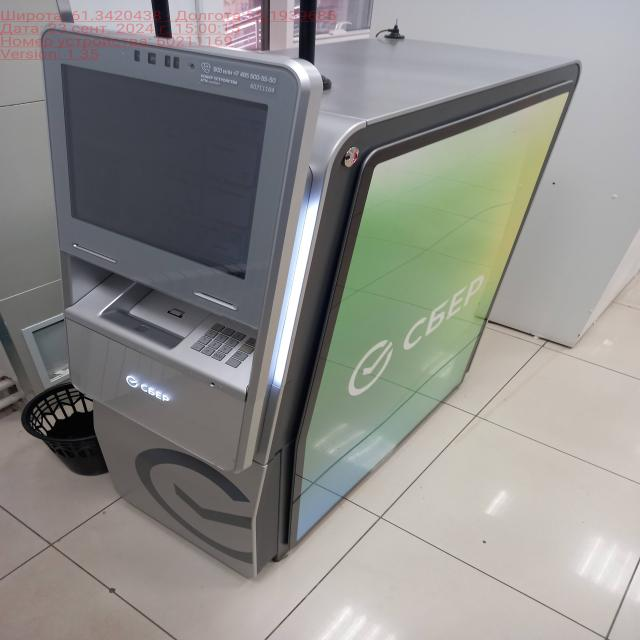bank: (43, 17, 586, 574)
